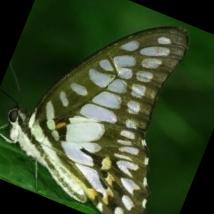butterfly: (7, 27, 188, 214)
